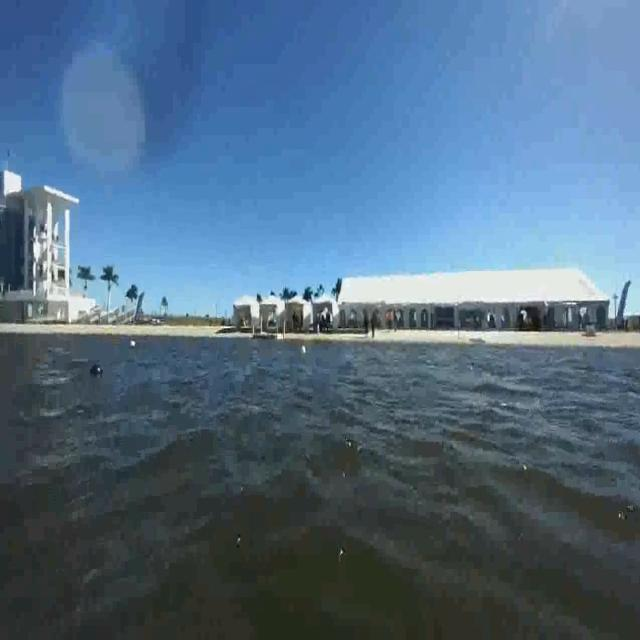black-buoy: (90, 362, 105, 382)
